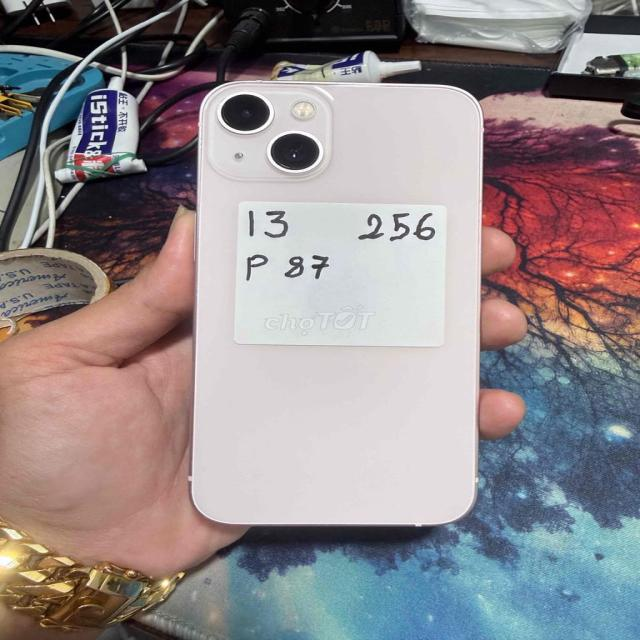gen_12_13: (181, 75, 492, 538)
